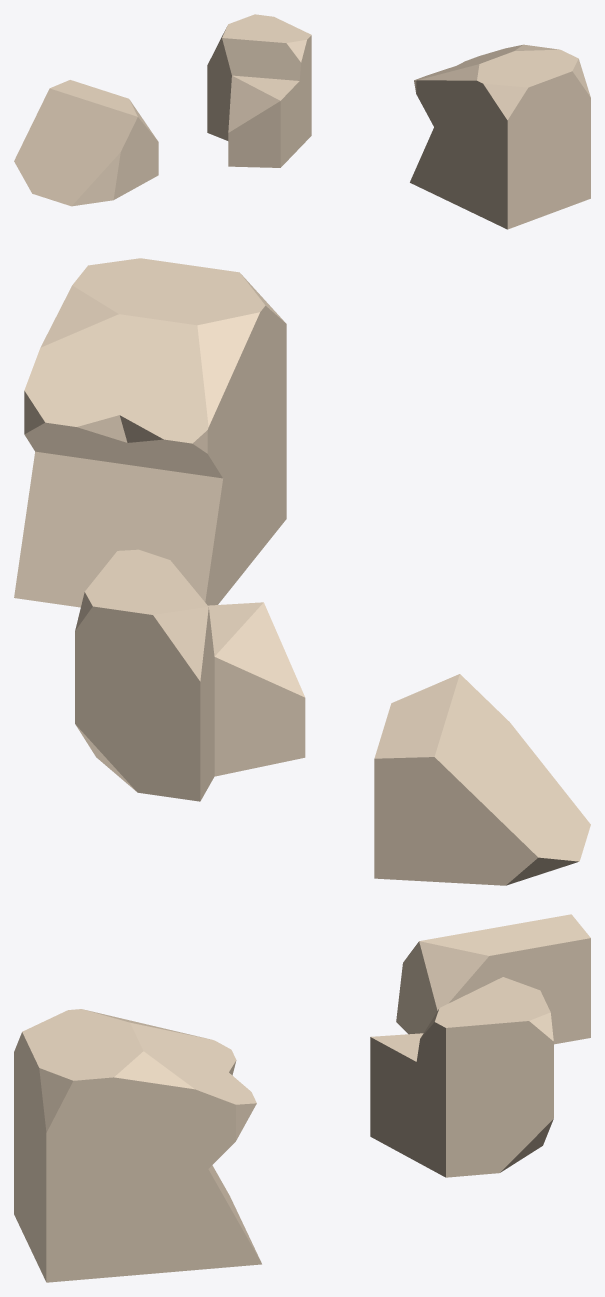
File: temple_Prop_Rubble_1.glb
3 views of the same model, one above another, from view 1: azimuth 30°, elevation 25°; view 2: azimuth 150°, elevation 25°; view 3: azimuth 270°, elevation 25° (orthographic). The views are drawn at different scales.
Parts seen in each view (by area): view 1: object1; view 2: object1; view 3: object1.
Part boxes in pixels (x1,y1,x2,y2): object1: (14,14,590,229); object1: (14,258,590,885); object1: (14,914,590,1282).
Size of the model in its own units: 0.6453 by 0.2 by 0.524.
